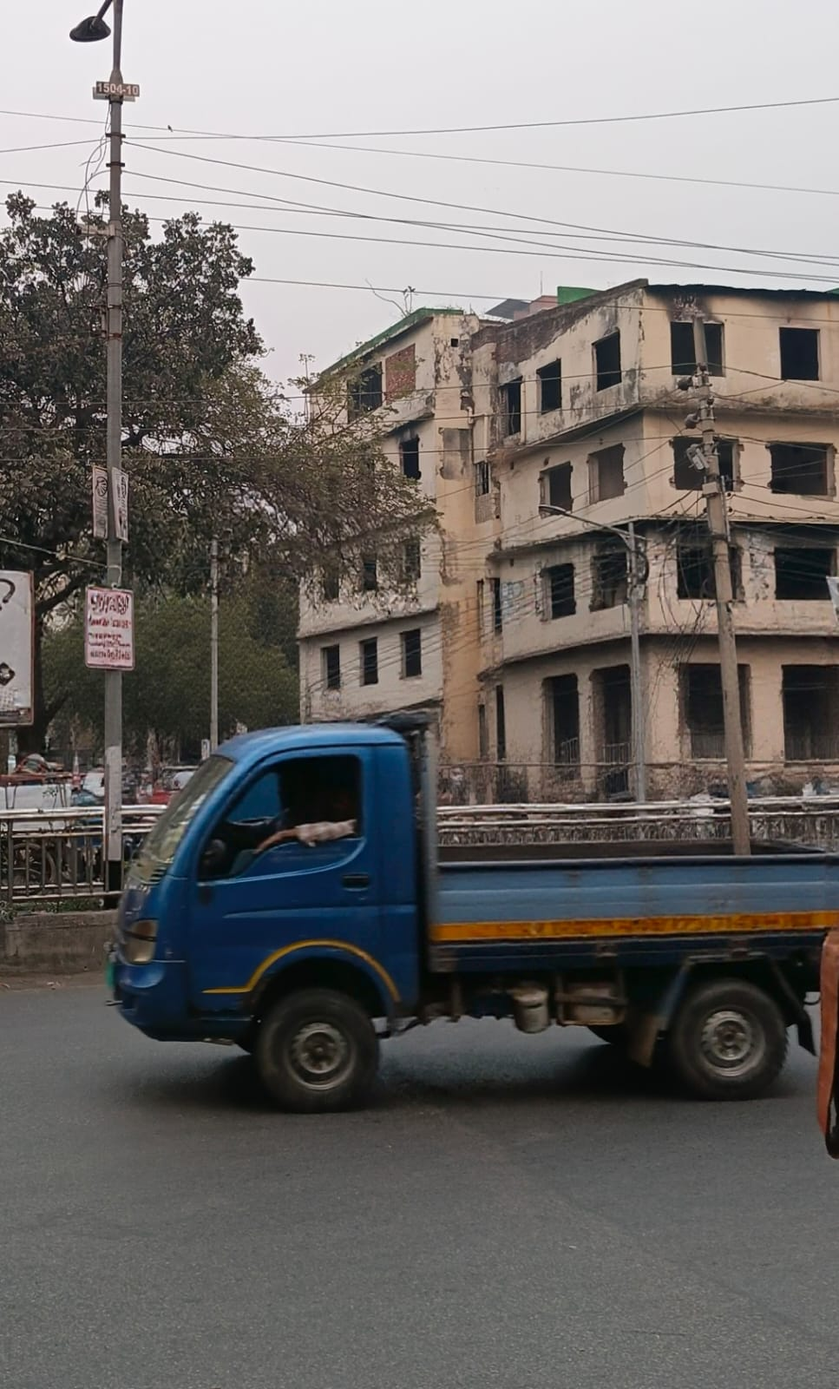Pickup: (91, 687, 839, 1119)
